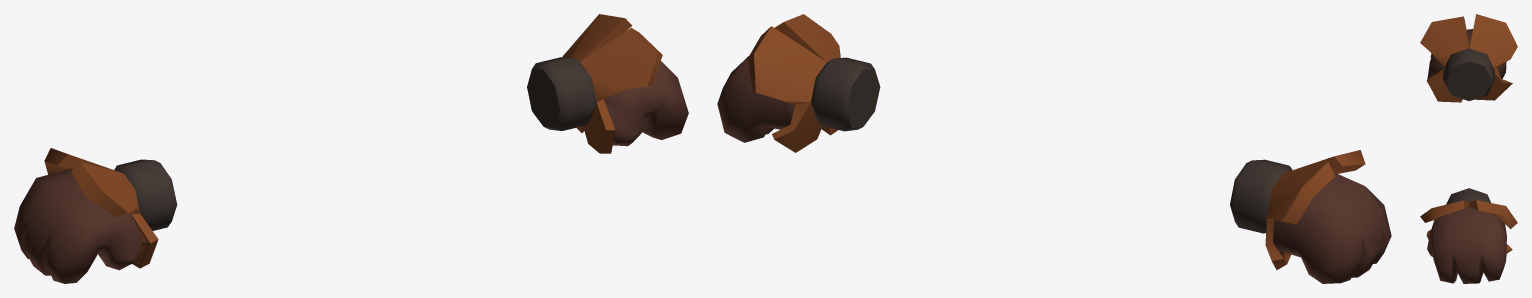
File: Glove_5.fbx
3 views of the same model, side by side, from view 1: azimuth 30°, elevation 25°; view 2: azimuth 150°, elevation 25°; view 3: azimuth 270°, elevation 25° (orthographic). The views are drawn at different scales.
Visible parts, largest first — view 1: Glove_5; view 2: Glove_5; view 3: Glove_5.
Boxes of the visible parts, bbox=[...] form: Glove_5: bbox=[14, 14, 688, 283]; Glove_5: bbox=[717, 14, 1391, 283]; Glove_5: bbox=[1420, 14, 1517, 283].
Size of the model in its own units: 136 by 22.67 by 26.08.
